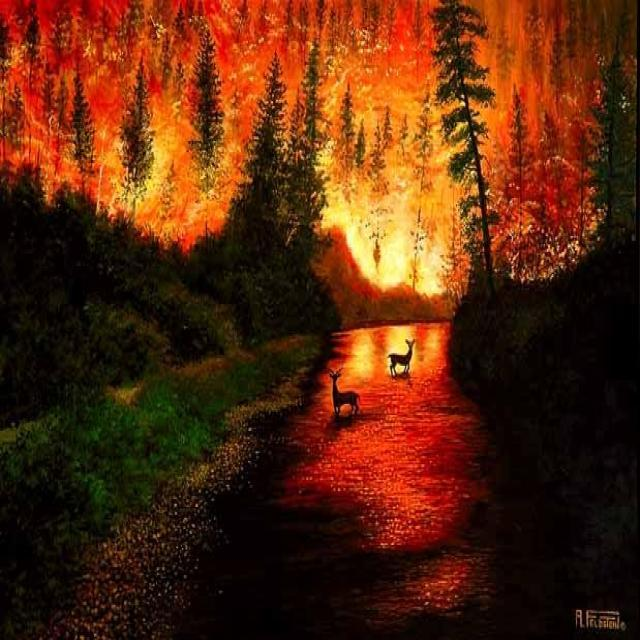Fire: (0, 0, 469, 300)
